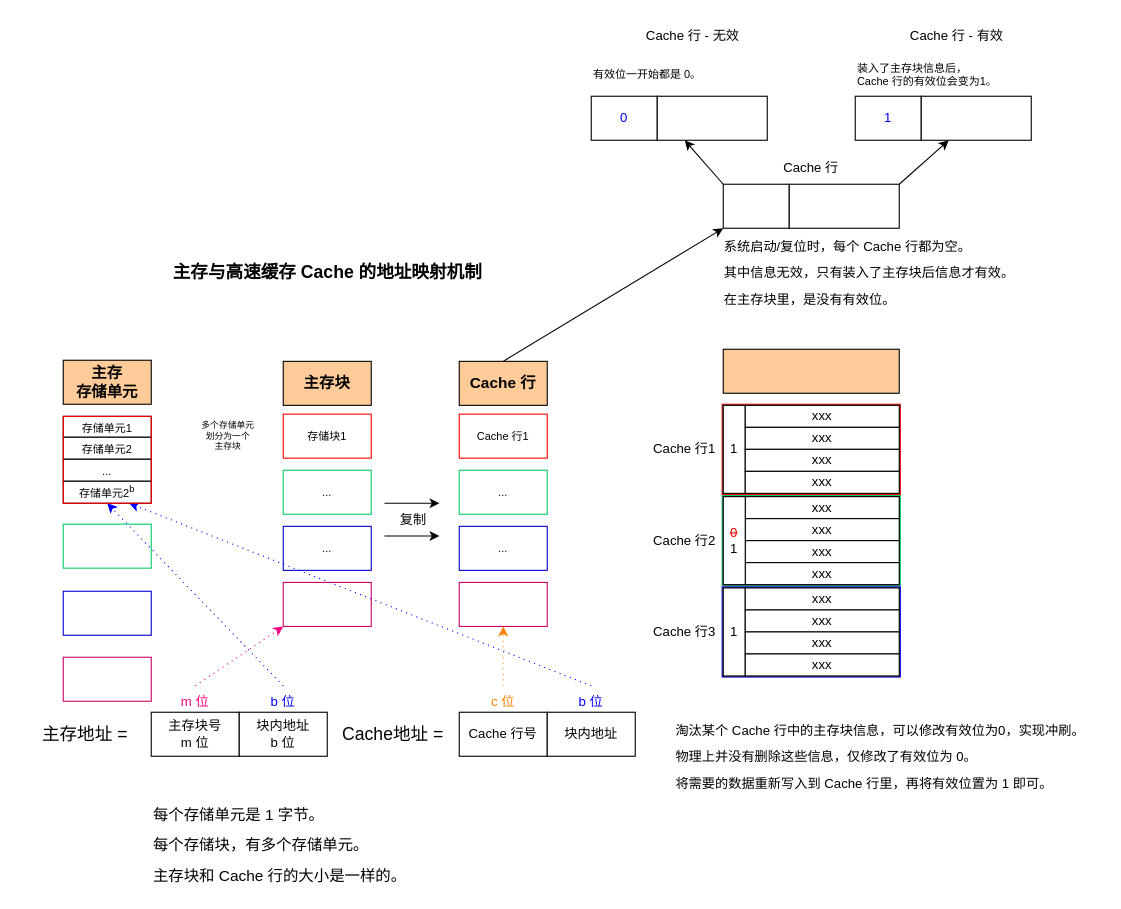
This 1121x909 diagram has some shape labels left out. Here are the shapes that lost their labels. From the top down, the centre of each, then its label:
At (x=755, y=205): "有效位".
At (x=843, y=205): "数据".
At (x=810, y=370): "淘汰 Cache 行信息".
At (x=326, y=603): "存储块2 m".
At (x=502, y=603): "Cache 行 2 c".
